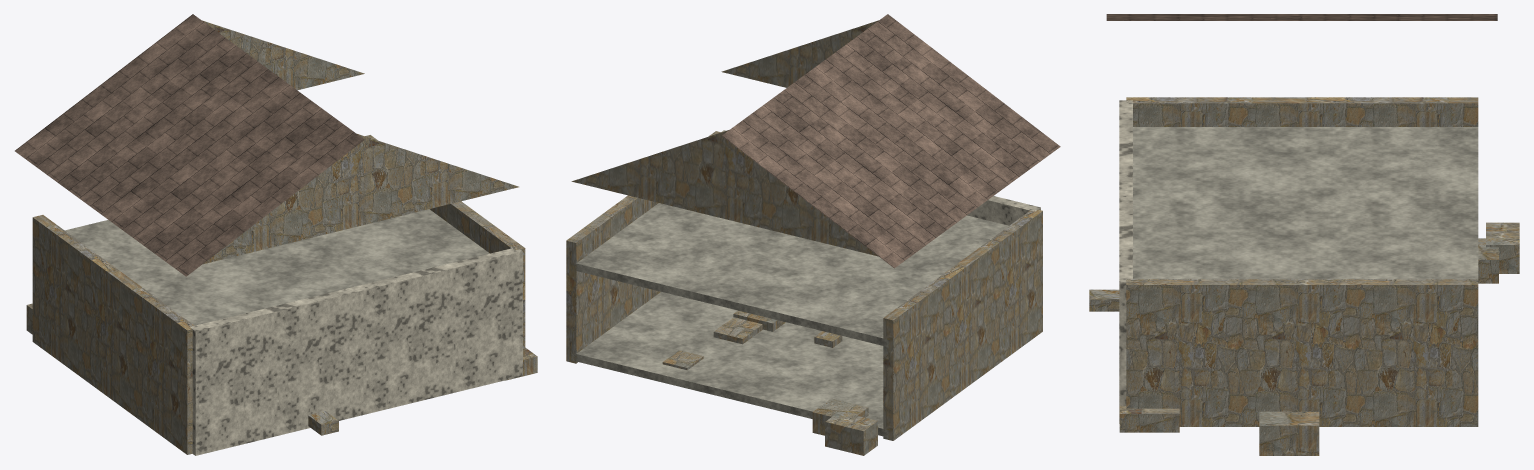
The model's file is Strategic_House_2.fbx.
The picture shows the model from 3 angles, left to right: view 1: azimuth 30°, elevation 25°; view 2: azimuth 150°, elevation 25°; view 3: azimuth 270°, elevation 25°; orthographic projection. The views are drawn at different scales.
Visible parts, largest first — view 1: Strategic_House_2; view 2: Strategic_House_2; view 3: Strategic_House_2.
Part boxes in pixels (x1,y1,x2,y2): Strategic_House_2: (15,14,537,455); Strategic_House_2: (566,14,1060,455); Strategic_House_2: (1089,14,1519,455).
Bounding box in the file's own units: 1306 × 918 × 1101.
